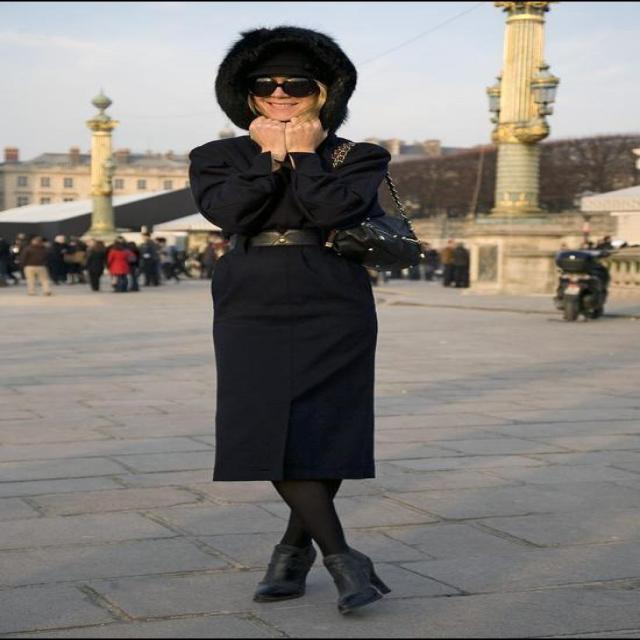dress: (187, 135, 390, 481)
